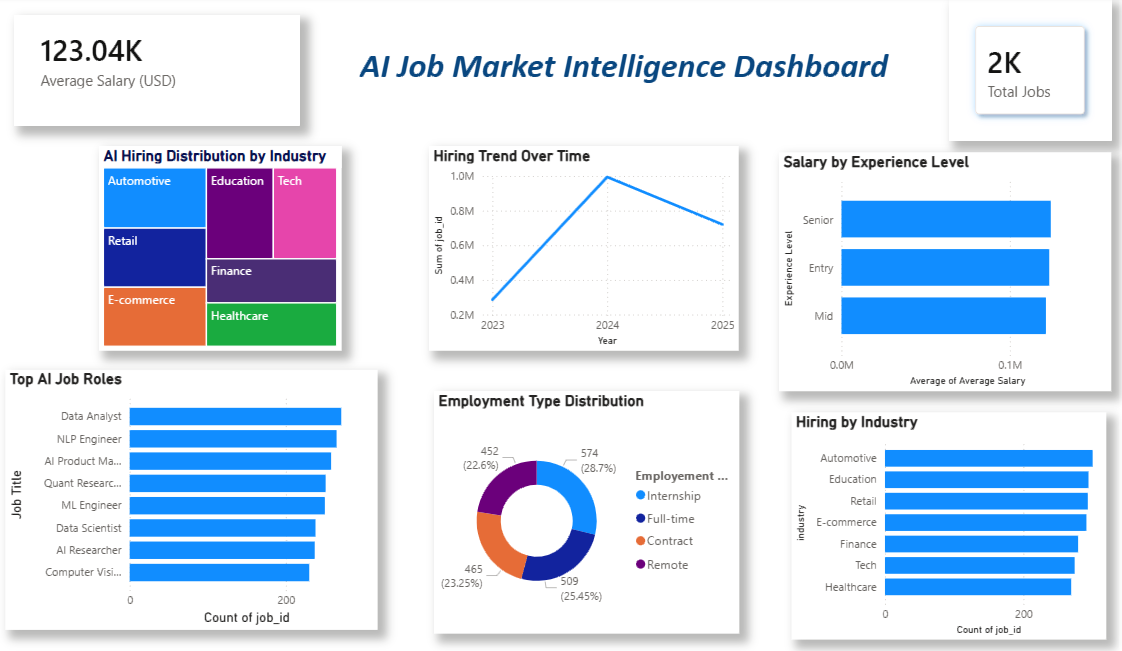

The page's visual inventory and layout, read from the dashboard file:
{"tool":"powerbi","page":{"name":"Page 1","canvas":[1280,720],"ordinal":0},"visuals":[{"type":"cardVisual","fields":{"Data":["CountNonNull(cleaned_ai_job_market.job_id)"]},"box":[1075.8,4.1,178.4,155.1],"z":0},{"type":"cardVisual","fields":{"Data":["Avg(cleaned_ai_job_market.Average Salary)"]},"box":[49.4,20.6,314.2,122.1],"z":1000},{"type":"clusteredBarChart","title":"Top AI Job Roles","fields":{"Category":["cleaned_ai_job_market.Job Title"],"Y":["CountNonNull(cleaned_ai_job_market.job_id)"]},"box":[39.8,410.3,408.9,285.4],"z":2000},{"type":"clusteredBarChart","title":"Salary by Experience Level","fields":{"Category":["cleaned_ai_job_market.Experience Level"],"Y":["Avg(cleaned_ai_job_market.Average Salary)"]},"box":[889.2,171.5,365,262.1],"z":3000},{"type":"clusteredBarChart","title":"Hiring by Industry","fields":{"Category":["cleaned_ai_job_market.industry"],"Y":["CountNonNull(cleaned_ai_job_market.job_id)"]},"box":[902.9,456.9,345.8,249.7],"z":4000},{"type":"donutChart","title":"Employment Type Distribution","fields":{"Y":["CountNonNull(cleaned_ai_job_market.job_id)"],"Category":["cleaned_ai_job_market.Employement Type"]},"box":[510.5,433.6,334.8,266.2],"z":5000},{"type":"lineChart","title":"Hiring Trend Over Time","fields":{"Y":["Sum(cleaned_ai_job_market.job_id)"],"Category":["cleaned_ai_job_market.posted_date.Variation.Date Hierarchy.Year","cleaned_ai_job_market.posted_date.Variation.Date Hierarchy.Quarter","cleaned_ai_job_market.posted_date.Variation.Date Hierarchy.Month","cleaned_ai_job_market.posted_date.Variation.Date Hierarchy.Day"]},"box":[505,164.7,340.3,225],"z":6000},{"type":"treemap","title":"AI Hiring Distribution by Industry","fields":{"Group":["cleaned_ai_job_market.industry"],"Values":["Sum(cleaned_ai_job_market.job_id)"]},"box":[142.7,164.7,266.2,225],"z":7000},{"type":"textbox","box":[424,49.4,612,65.9],"z":8000}]}

Visuals, with their boxes on the page's 1280x720 design canvas (x1, y1, x2, y2). These are canvas units, not pixel positions in the 1122x651 screenshot, which may show the page scaled, cropped or inside an application window:
cardVisual - CountNonNull(cleaned_ai_job_market.job_id): detection(1076, 4, 1254, 159)
cardVisual - Avg(cleaned_ai_job_market.Average Salary): detection(49, 21, 364, 143)
"Top AI Job Roles" clusteredBarChart: detection(40, 410, 449, 696)
"Salary by Experience Level" clusteredBarChart: detection(889, 172, 1254, 434)
"Hiring by Industry" clusteredBarChart: detection(903, 457, 1249, 707)
"Employment Type Distribution" donutChart: detection(510, 434, 845, 700)
"Hiring Trend Over Time" lineChart: detection(505, 165, 845, 390)
"AI Hiring Distribution by Industry" treemap: detection(143, 165, 409, 390)
textbox: detection(424, 49, 1036, 115)
